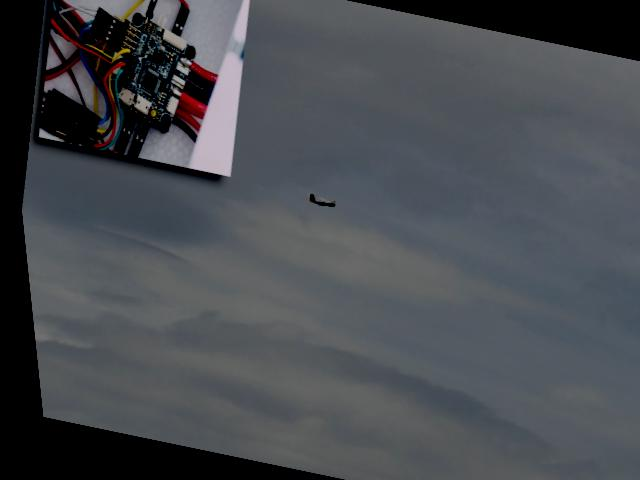plane: (301, 193, 333, 210)
